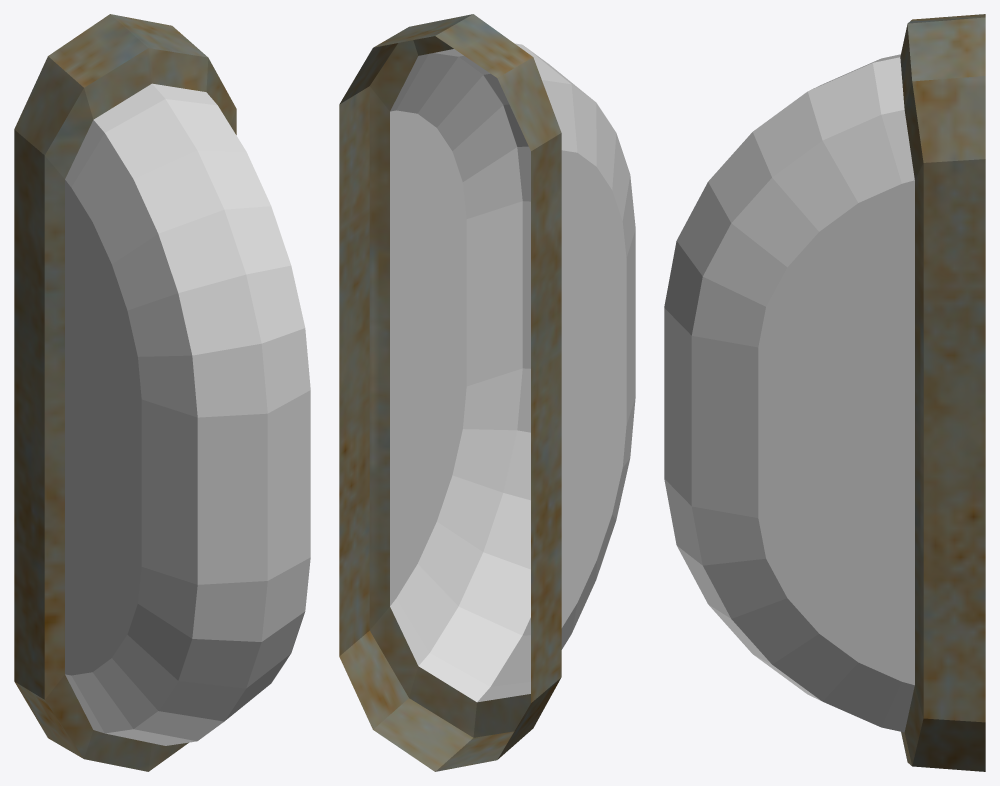
Rendered from Lampara(1).fbx.
3 renders of one model, left to right at view 1: azimuth 30°, elevation 25°; view 2: azimuth 150°, elevation 25°; view 3: azimuth 270°, elevation 25°, orthographic. The views are drawn at different scales.
Parts seen in each view (by area): view 1: Luz, Base luz; view 2: Luz, Base luz; view 3: Luz, Base luz.
Part boxes in pixels (<box>): Luz: <box>65,83,310,745</box>; Base luz: <box>14,14,236,771</box>; Luz: <box>390,43,635,702</box>; Base luz: <box>339,14,561,771</box>; Luz: <box>664,54,914,732</box>; Base luz: <box>900,14,985,771</box>.
Size of the model in its own units: 4.8 by 17.6 by 6.83.
